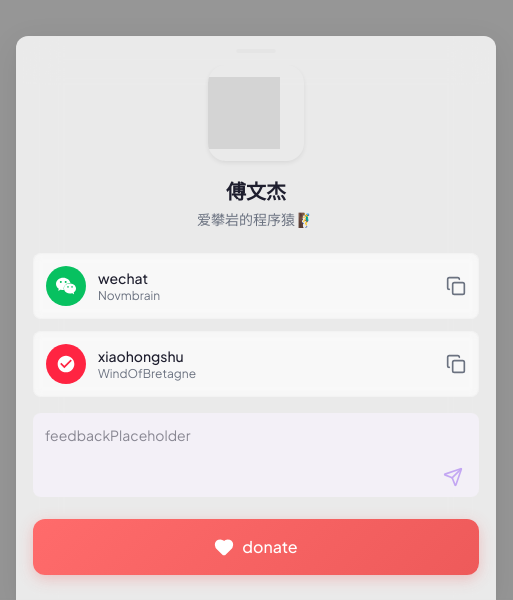
Test: AuthorDrawer › 提交成功后显示感谢信息
Type "测试反馈" into the text box.
click(256, 455); type("测试反馈")  # box [33, 413, 479, 497]
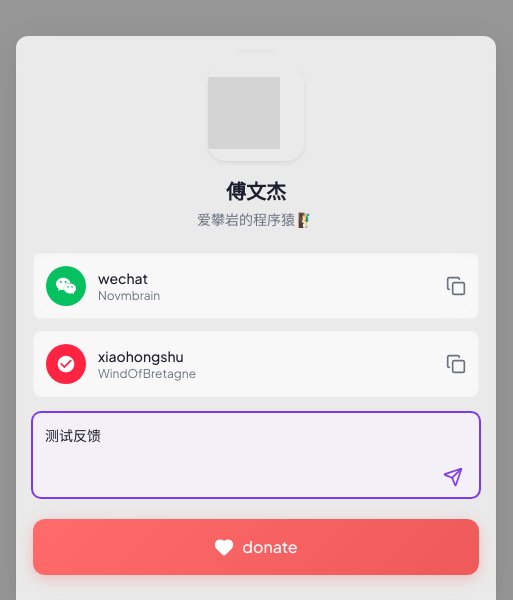
Click the 4th button.
click(453, 477)  # box [435, 459, 471, 495]
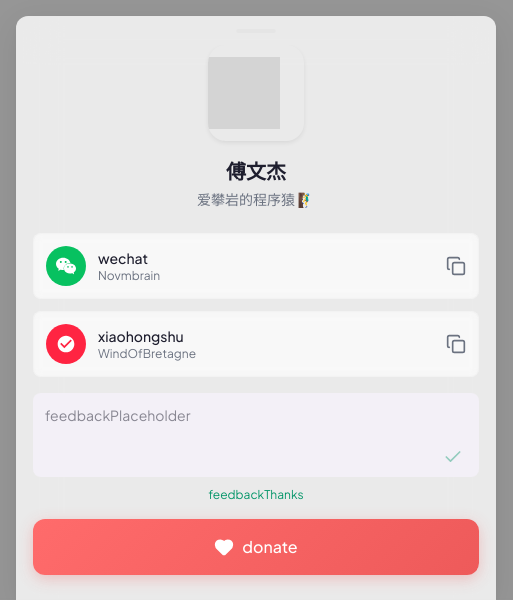
Expected: the text "feedbackThanks" is shown, [208, 487, 304, 502]
